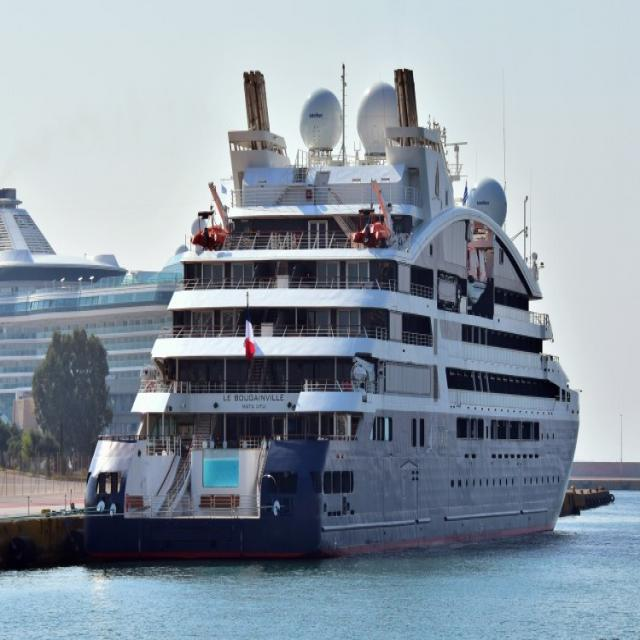cruises: (80, 56, 584, 574)
